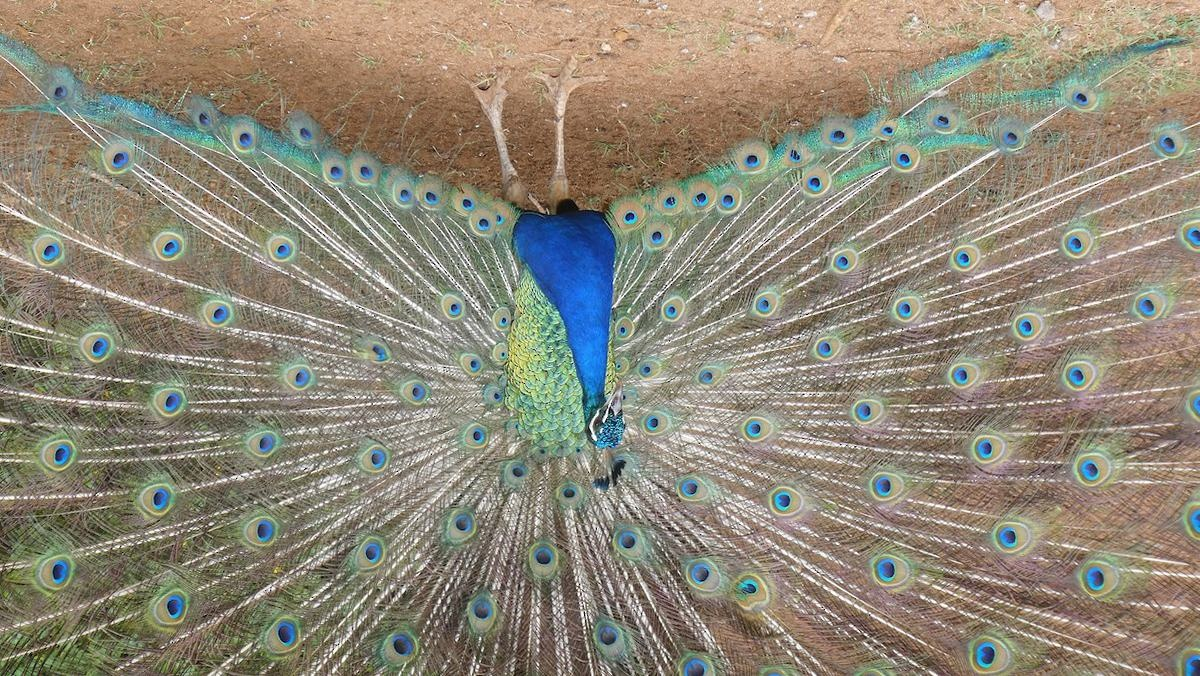peacock: (26, 53, 1200, 676)
